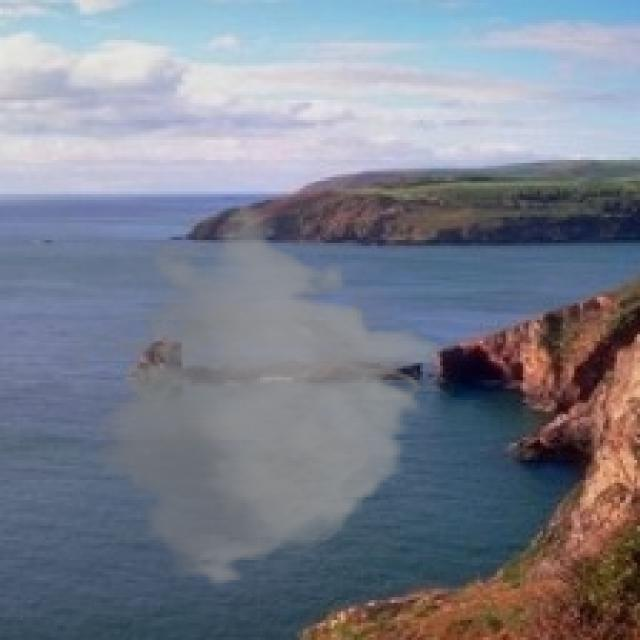smoke: (60, 203, 457, 588)
